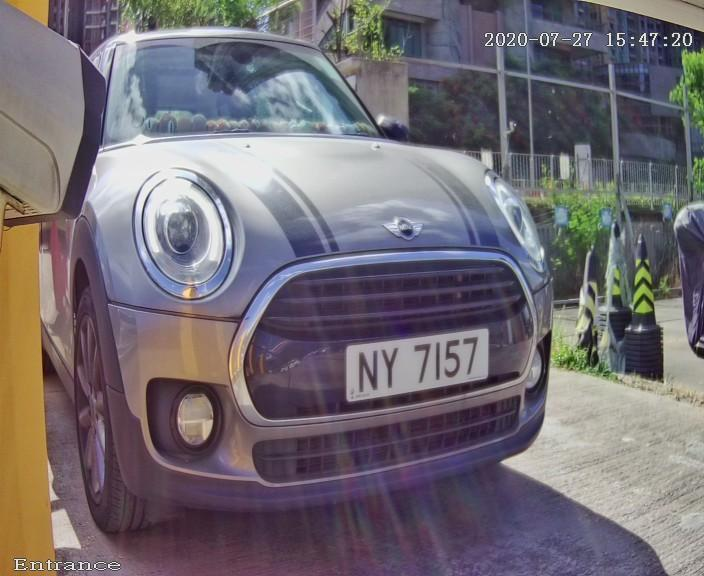privatecar: (38, 24, 591, 535)
